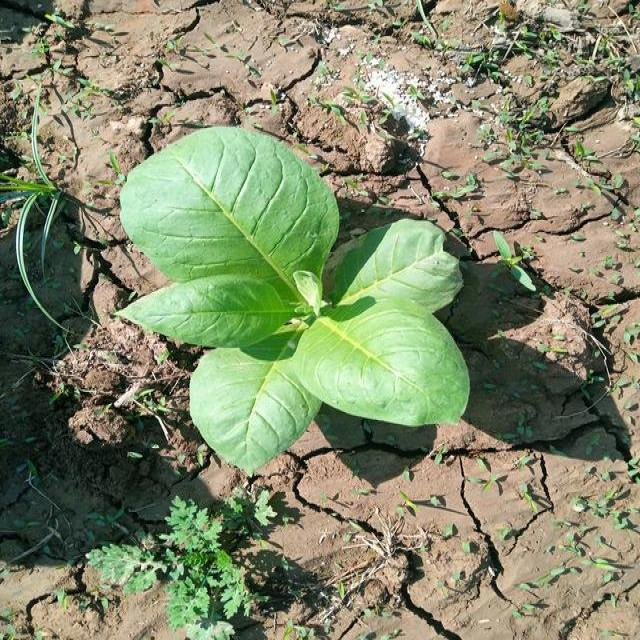crop: (110, 124, 471, 474)
